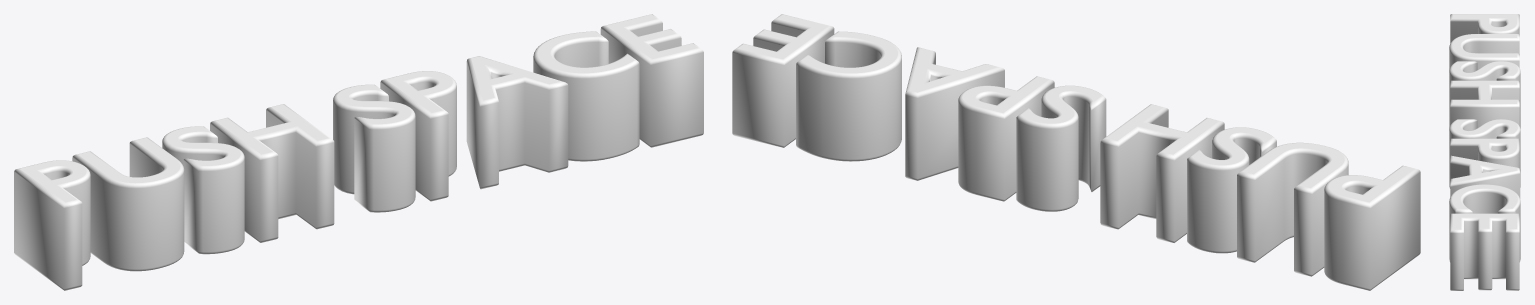
File: pushSpace.obj
3 views of the same model, side by side, from view 1: azimuth 30°, elevation 25°; view 2: azimuth 150°, elevation 25°; view 3: azimuth 270°, elevation 25° (orthographic). The views are drawn at different scales.
Visible parts, largest first — view 1: テキスト; view 2: テキスト; view 3: テキスト.
Part boxes in pixels (bbox=[...]): テキスト: bbox=[14, 14, 703, 290]; テキスト: bbox=[732, 14, 1420, 290]; テキスト: bbox=[1449, 14, 1520, 290].
Size of the model in its own units: 5.49 by 0.72 by 0.7601.
1 material, 1 textured.
